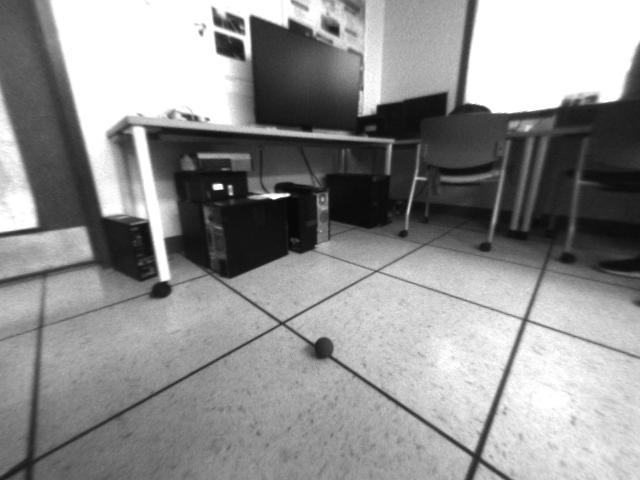dogtoy: (308, 327, 342, 365)
